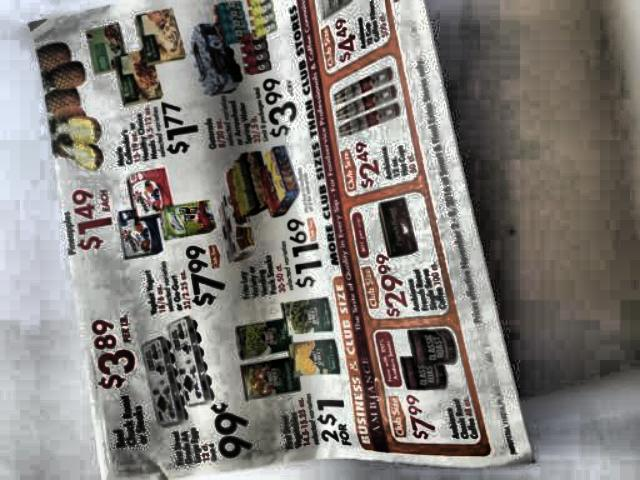Paper: (30, 0, 535, 480)
